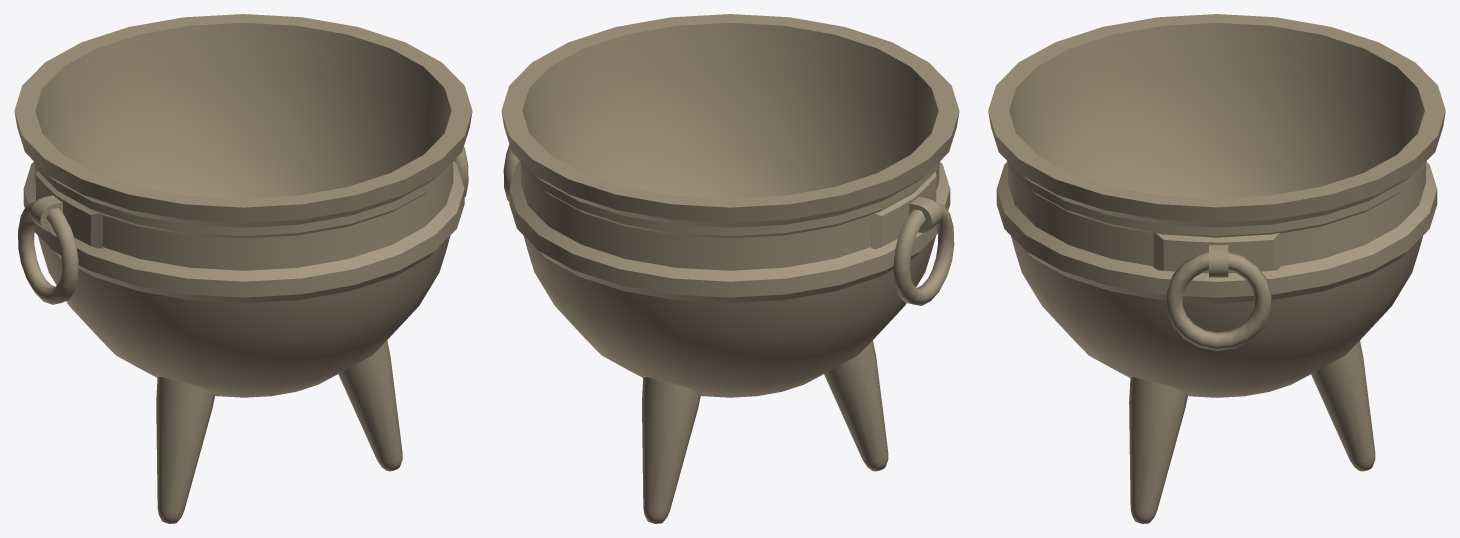
The model's file is Cauldron.gltf.
3 views of the same model, side by side, from view 1: azimuth 30°, elevation 25°; view 2: azimuth 150°, elevation 25°; view 3: azimuth 270°, elevation 25° (orthographic).
Visible parts, largest first — view 1: Cauldron; view 2: Cauldron; view 3: Cauldron.
Part boxes in pixels (x1,y1,x2,y2): Cauldron: (14,14,472,523); Cauldron: (501,14,959,523); Cauldron: (988,14,1445,523).
Size of the model in its own units: 0.9891 by 0.8155 by 0.944.
